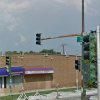Traffic light: (24, 22, 46, 47)
